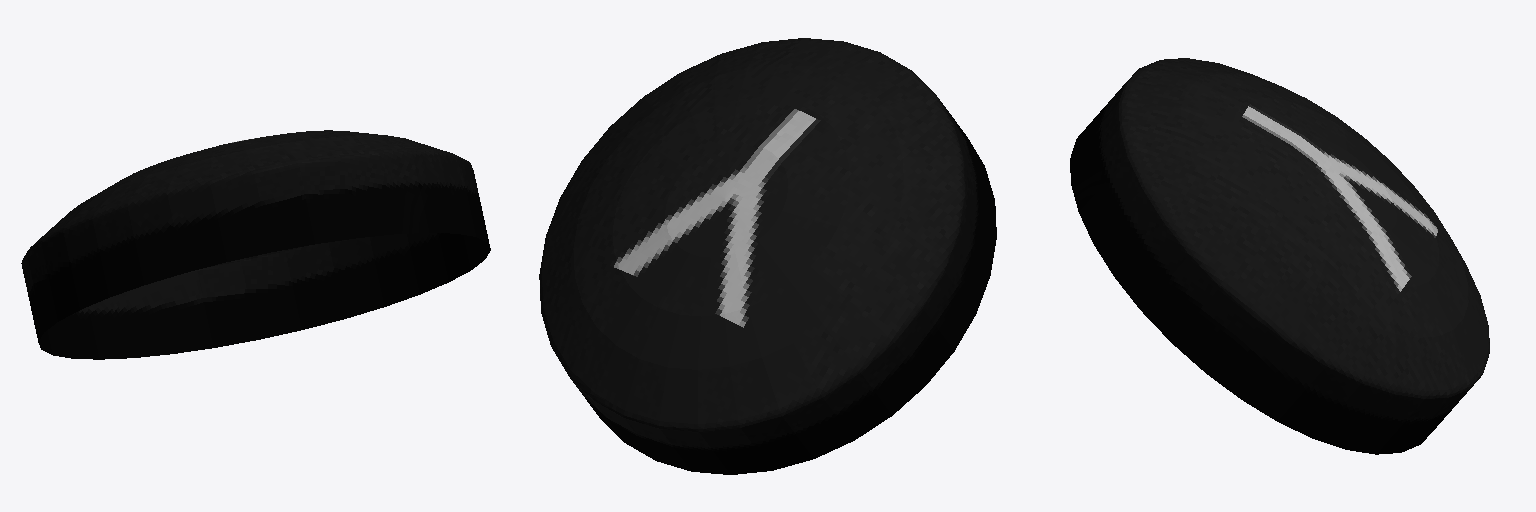
The picture shows the model from 3 angles: view 1: azimuth 30°, elevation 25°; view 2: azimuth 150°, elevation 25°; view 3: azimuth 270°, elevation 25°; orthographic projection.
Visible parts, largest first — view 1: oculus_quest2_controller_left_button_y; view 2: oculus_quest2_controller_left_button_y; view 3: oculus_quest2_controller_left_button_y.
Boxes of the visible parts, x1=… form: oculus_quest2_controller_left_button_y: x1=21, y1=130, x2=490, y2=359; oculus_quest2_controller_left_button_y: x1=539, y1=38, x2=996, y2=474; oculus_quest2_controller_left_button_y: x1=1070, y1=58, x2=1489, y2=454.
Bounding box in the file's own units: 0.0101 × 0.0075 × 0.0091.
Materials: 1 (1 with a texture image).